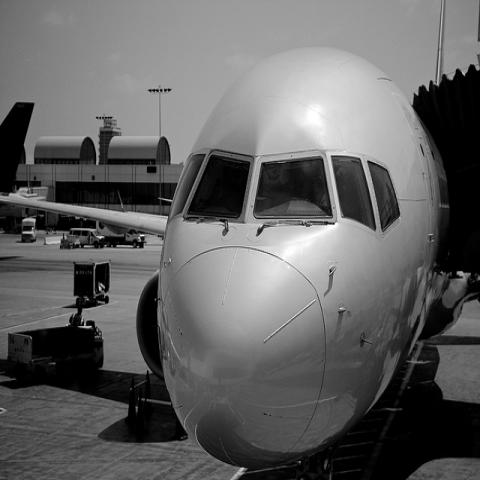truck: (68, 228, 105, 250), (106, 230, 147, 248), (21, 216, 37, 243)
